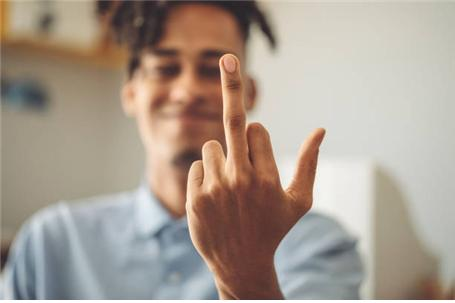insulting_gesture: (185, 51, 327, 303)
